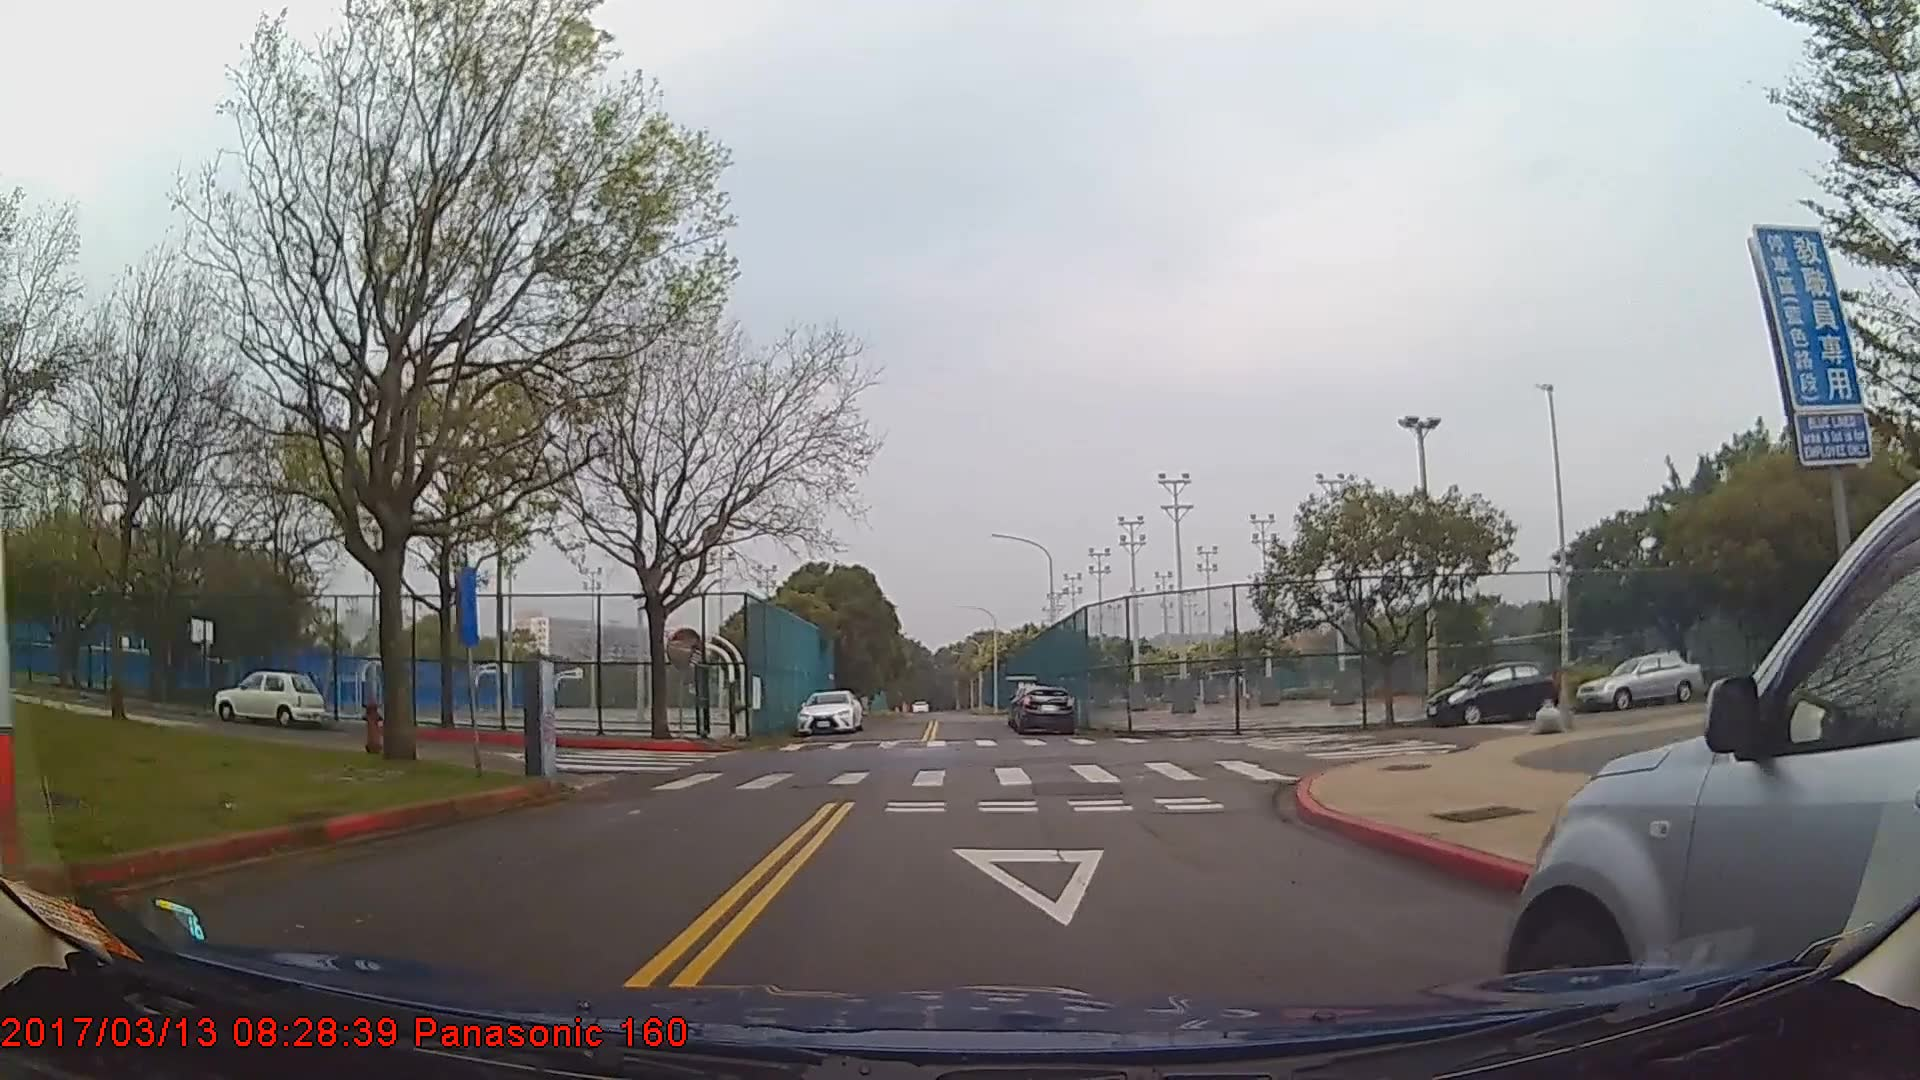vehicle: (1503, 487, 1920, 1051), (1425, 663, 1557, 727), (1575, 647, 1702, 709), (212, 667, 324, 727), (1011, 683, 1077, 735), (795, 687, 861, 735)
